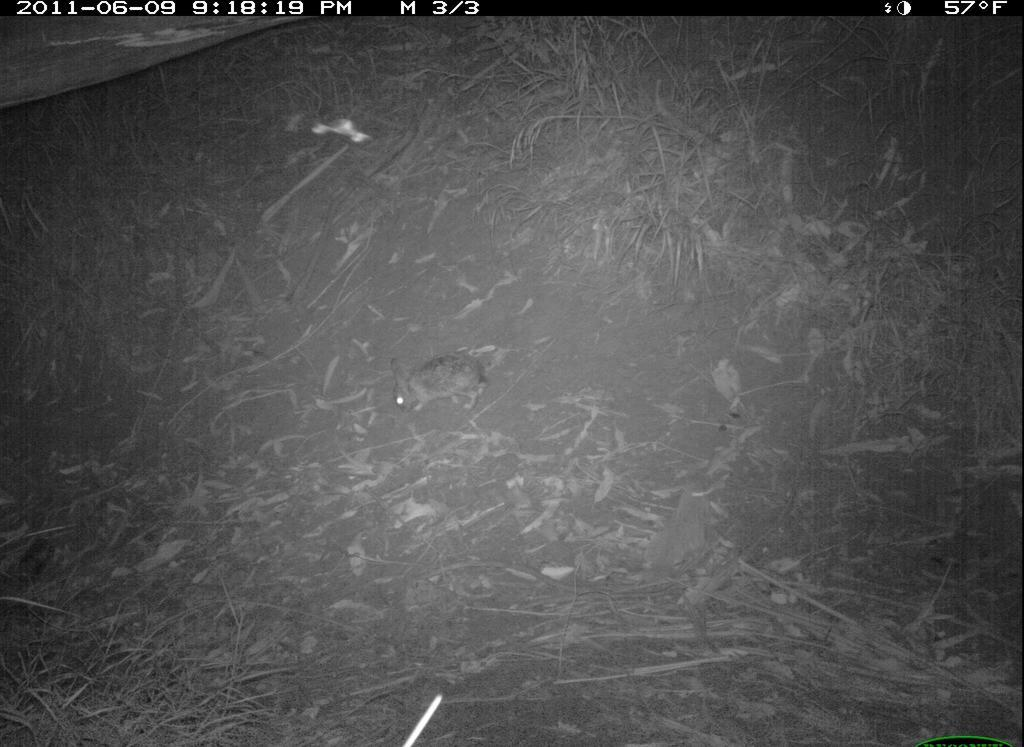rabbit: (381, 345, 500, 433)
